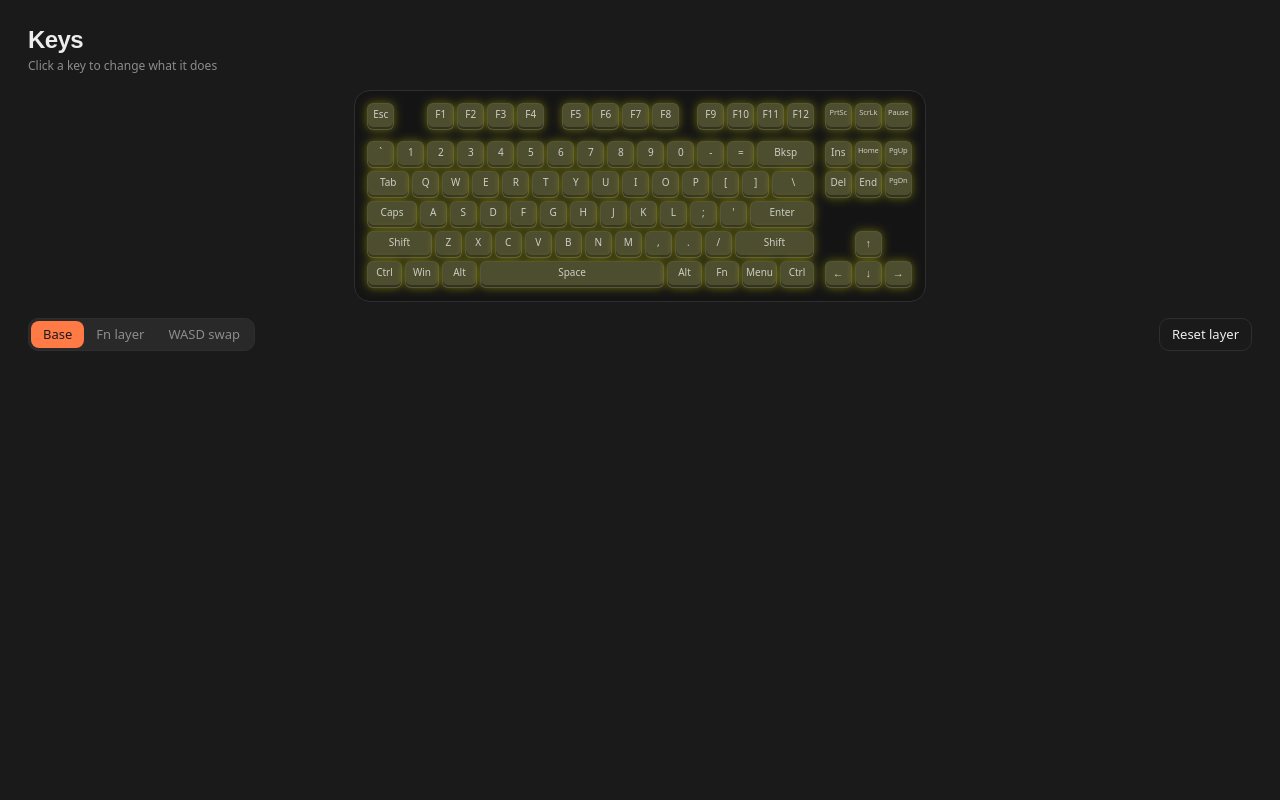
Test: reset layer asks first
The image size is (1280, 800).
What coordinates should you click on to do the following:
click the button "Reset layer"
I would click on:
 (1206, 334)
Its box is [1159, 318, 1252, 351].
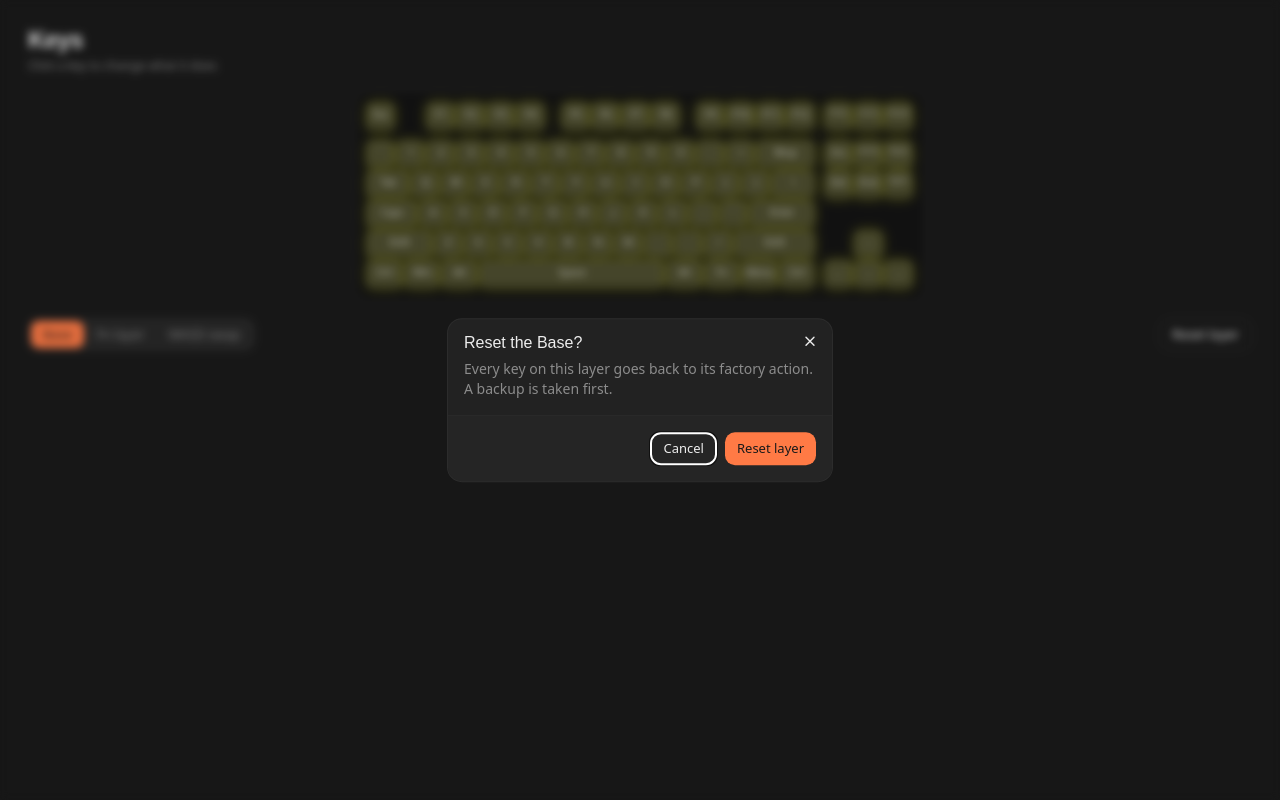
expect the dialog is shown: met, box [448, 319, 832, 481]
